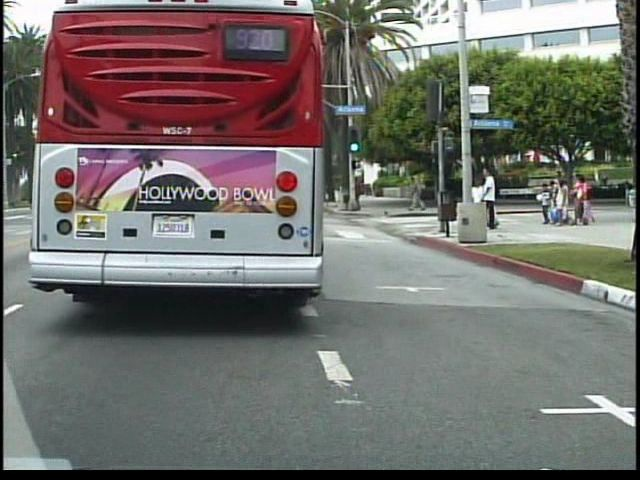person: (479, 163, 504, 233), (468, 173, 489, 225), (408, 172, 427, 214)
